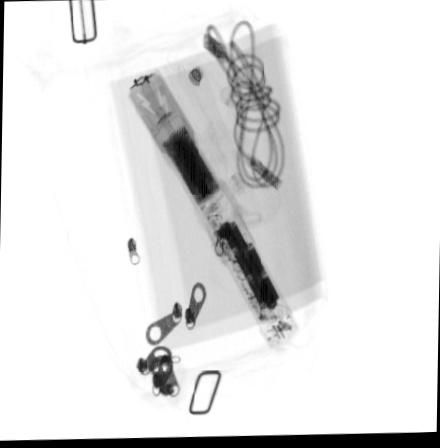Baton: (123, 67, 302, 354)
